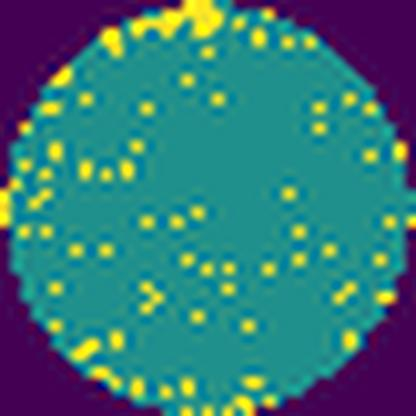Edge-Loc: (128, 0, 225, 46)
